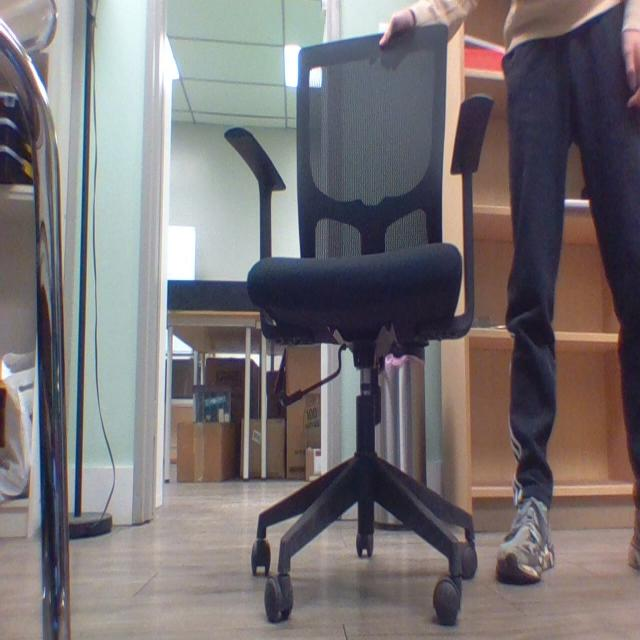black-chair: (237, 27, 471, 624)
